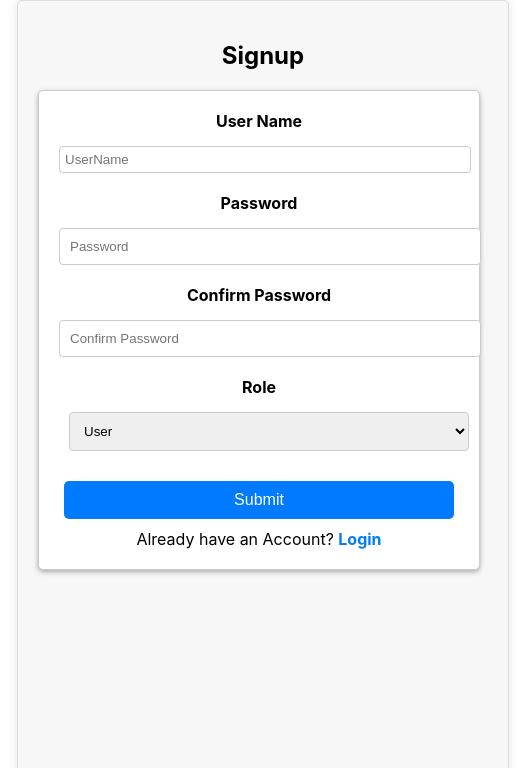
Test: signup_component › signup_should_show_an_error_message_when_passwords_do_not_match
Type "password123" into the password field with placeholder "Password" at (270, 246), box [59, 228, 481, 265]
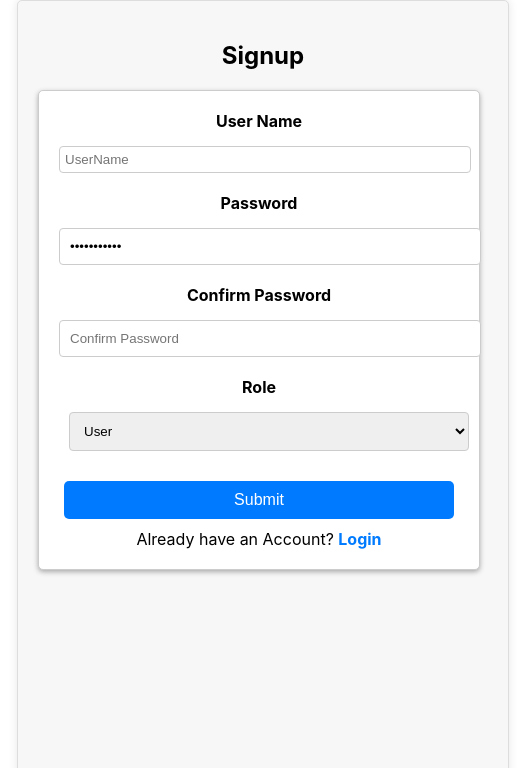
Type "password456" into the password field with placeholder "Confirm Password" at (270, 338), box [59, 320, 481, 357]
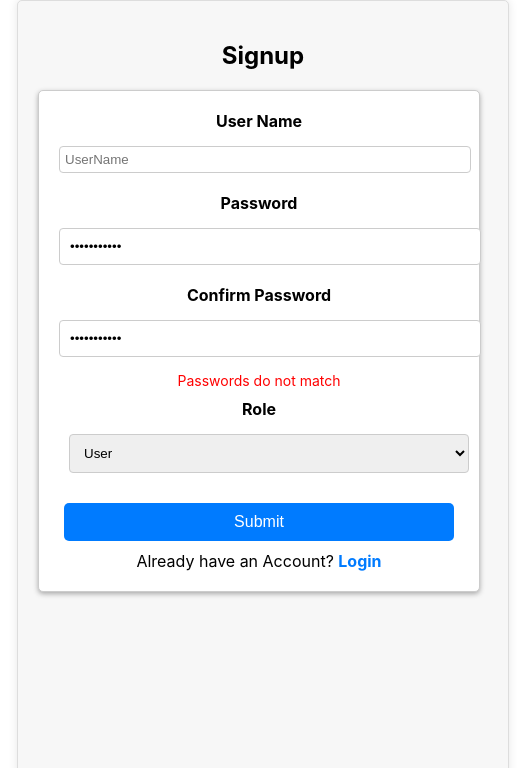
Expected: the text "Passwords do not match" is shown, [178, 372, 341, 389]
